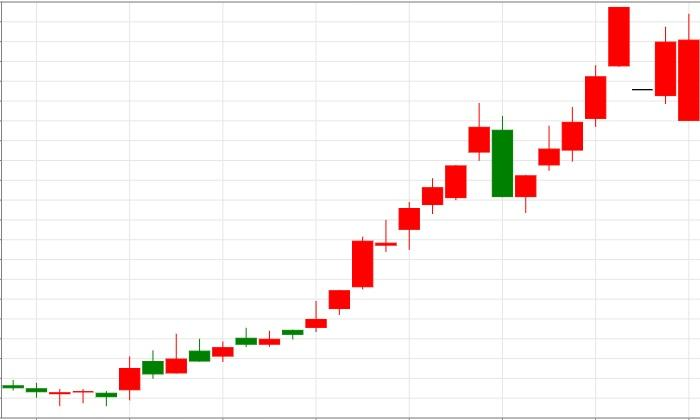three_white_soldiers_rise: (468, 102, 583, 213)
